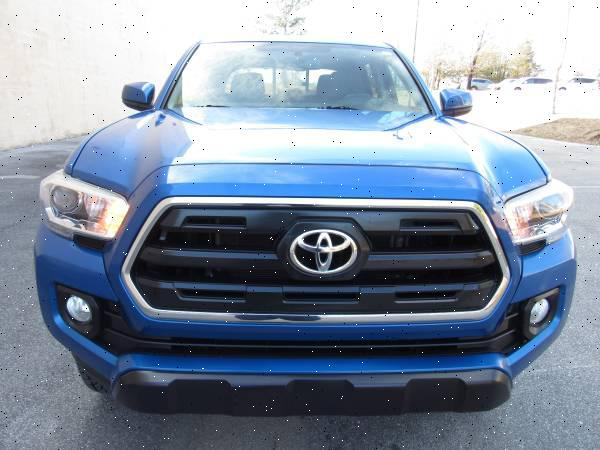Front_Bumper: (31, 222, 577, 411)
Front_Windshield: (159, 43, 436, 111)
Grille: (105, 160, 516, 340)
Hood: (70, 109, 550, 201)
Left_Headlight: (36, 168, 130, 239)
Left_Mirror: (441, 87, 475, 116)
Right_Headlight: (502, 174, 576, 246)
Right_Mirror: (121, 85, 154, 110)
